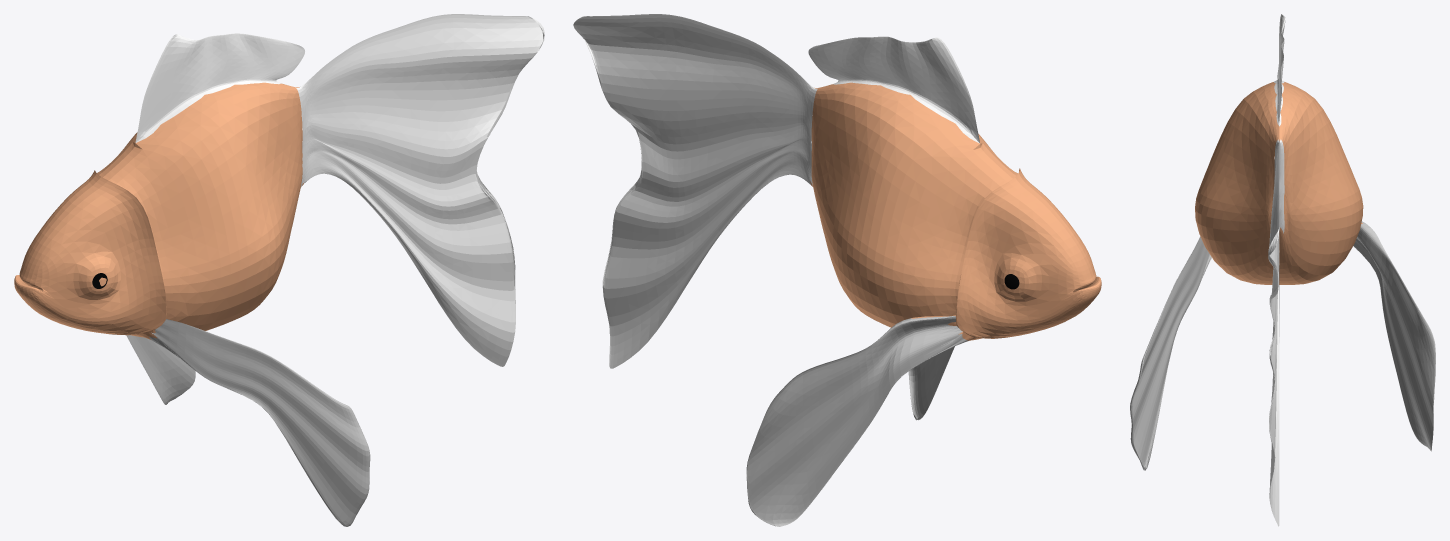
File: fish.glb
3 views of the same model, side by side, from view 1: azimuth 30°, elevation 25°; view 2: azimuth 150°, elevation 25°; view 3: azimuth 270°, elevation 25° (orthographic). The views are drawn at different scales.
Visible parts, largest first — view 1: Box01; view 2: Box01; view 3: Box01.
Part boxes in pixels (bbox=[...]): Box01: bbox=[14, 14, 544, 526]; Box01: bbox=[573, 14, 1101, 526]; Box01: bbox=[1130, 14, 1435, 526].
Bounding box in the file's own units: 217 × 182 × 122.
